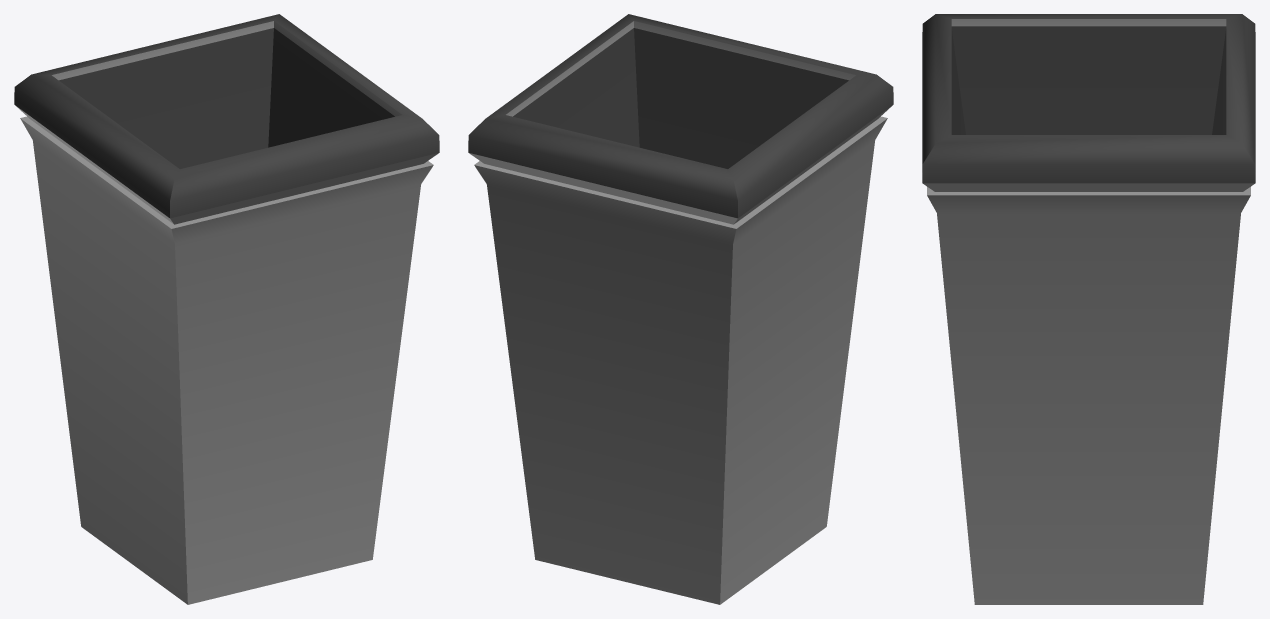
The model's file is Toilet_Trash.fbx.
3 renders of one model, left to right at view 1: azimuth 30°, elevation 25°; view 2: azimuth 150°, elevation 25°; view 3: azimuth 270°, elevation 25°, orthographic. The views are drawn at different scales.
Visible parts, largest first — view 1: Toilet_Trash; view 2: Toilet_Trash; view 3: Toilet_Trash.
Part boxes in pixels (x1,y1,x2,y2): Toilet_Trash: (14,14,439,604); Toilet_Trash: (468,14,893,604); Toilet_Trash: (922,14,1255,604).
Bounding box in the file's own units: 140 × 223 × 140.
